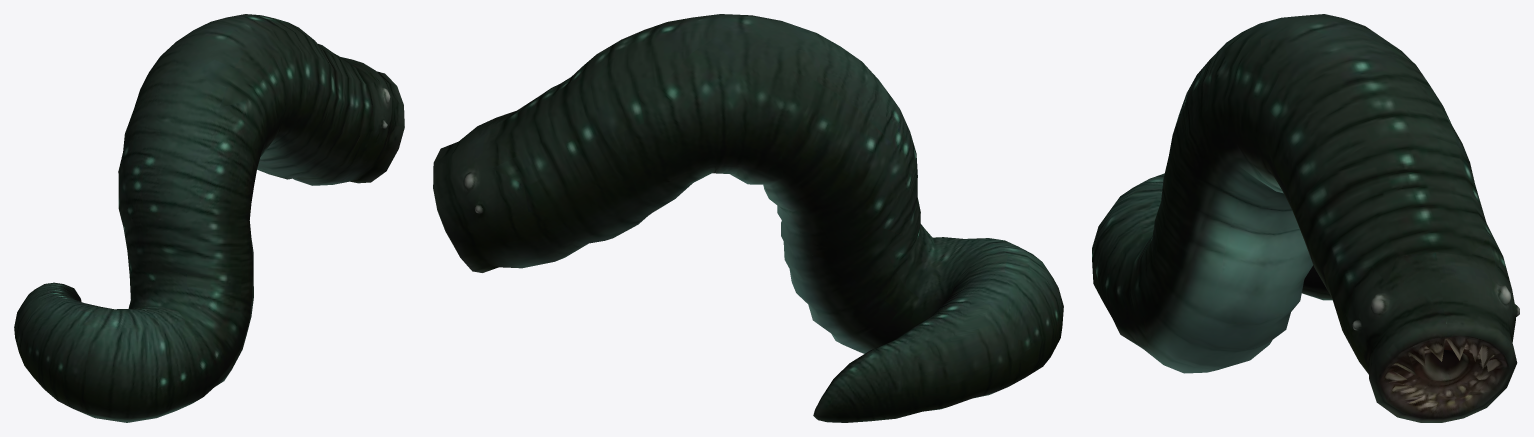
Rendered from mire_leech.glb.
The picture shows the model from 3 angles, left to right: view 1: azimuth 30°, elevation 25°; view 2: azimuth 150°, elevation 25°; view 3: azimuth 270°, elevation 25°; orthographic projection. The views are drawn at different scales.
Visible parts, largest first — view 1: tripo_node_0adcdba6-423c-4ba1-81fd-ad341b72f7ff; view 2: tripo_node_0adcdba6-423c-4ba1-81fd-ad341b72f7ff; view 3: tripo_node_0adcdba6-423c-4ba1-81fd-ad341b72f7ff.
Boxes of the visible parts, x1,y1,x2,y2 form: tripo_node_0adcdba6-423c-4ba1-81fd-ad341b72f7ff: (14,14,404,422); tripo_node_0adcdba6-423c-4ba1-81fd-ad341b72f7ff: (433,14,1063,422); tripo_node_0adcdba6-423c-4ba1-81fd-ad341b72f7ff: (1092,14,1519,422).
Bounding box in the file's own units: 0.998 × 0.6621 × 0.6543.
Materials: 1 (1 with a texture image).
